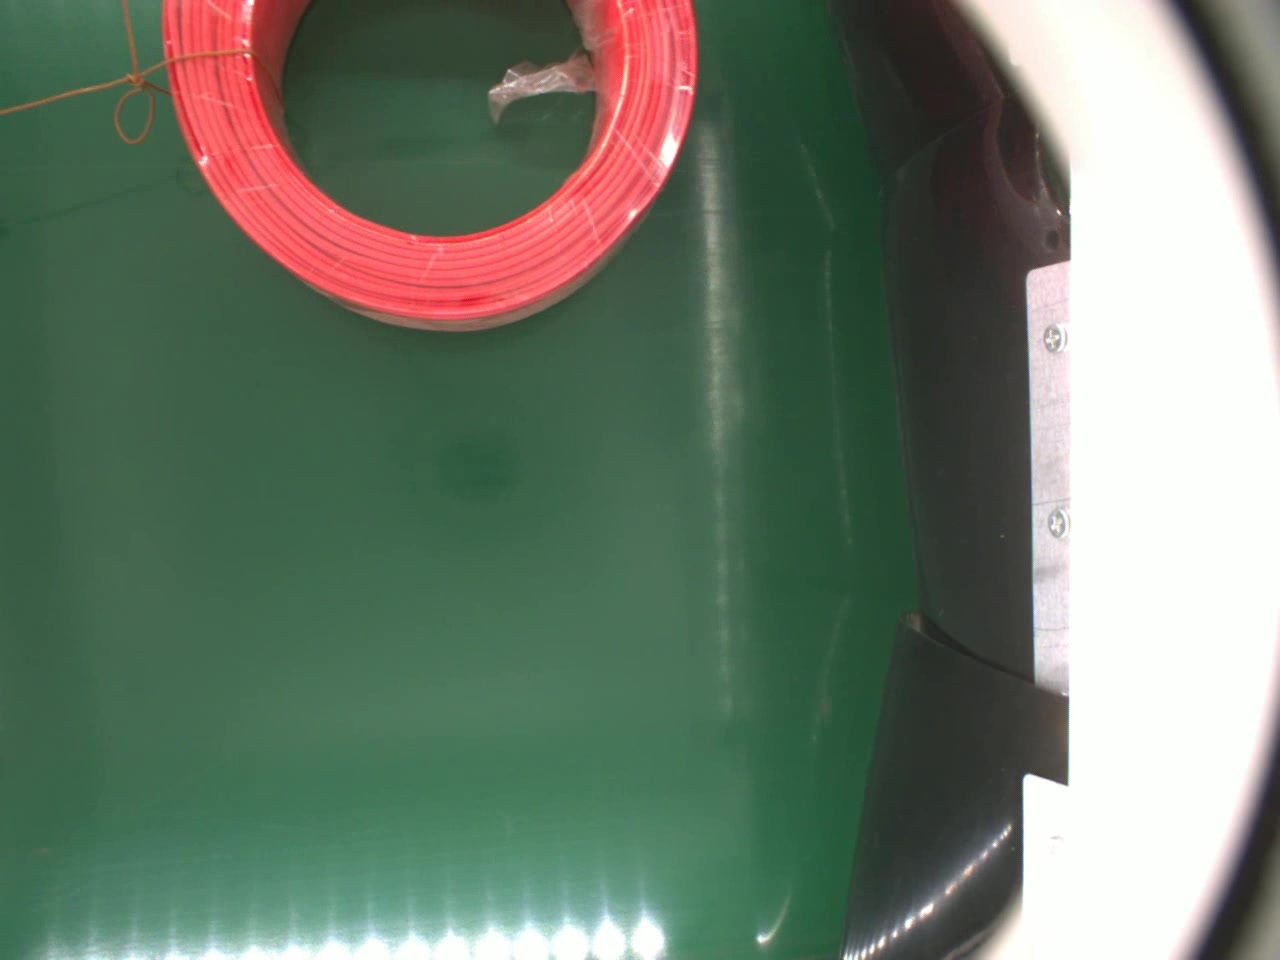red: (162, 0, 700, 332)
